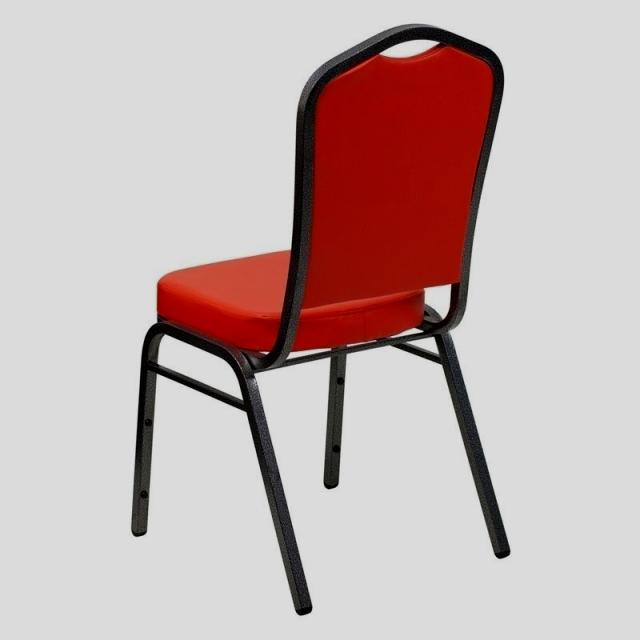Chair: (123, 20, 521, 619)
